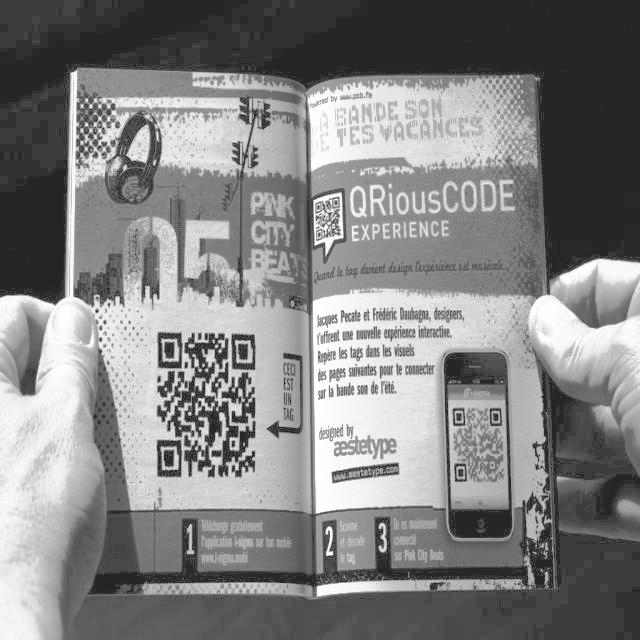qr_code: (157, 332, 255, 477), (453, 408, 504, 482), (315, 196, 341, 241)
